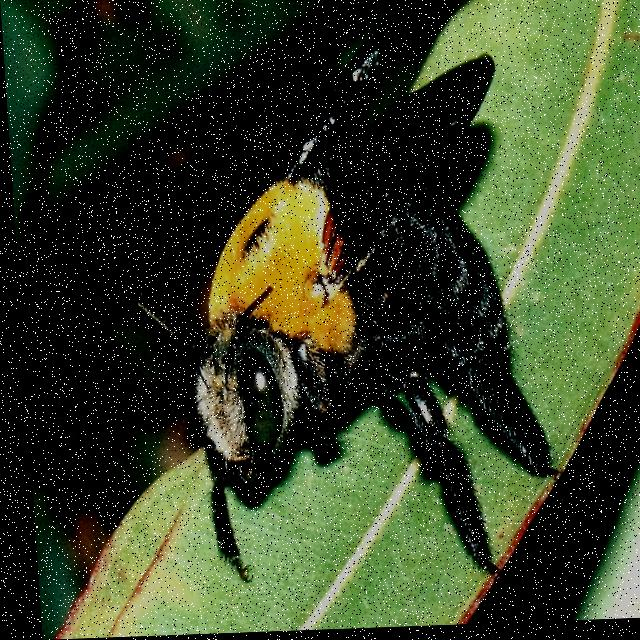Xylocopa: (112, 0, 569, 604)
